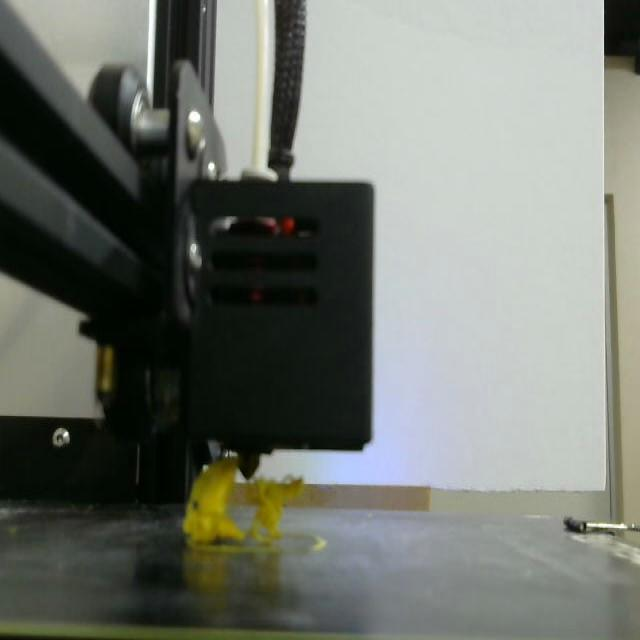spaghetti: (184, 458, 246, 543), (249, 478, 304, 542)
